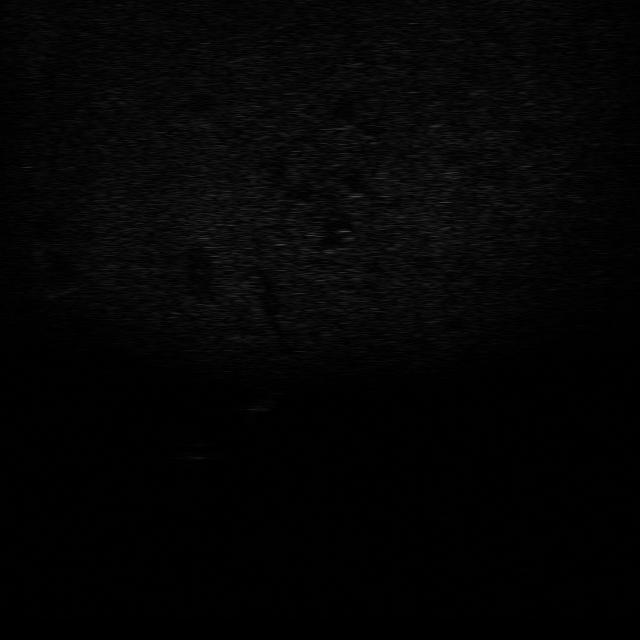ball: (180, 437, 222, 461)
human body: (245, 379, 289, 424)
